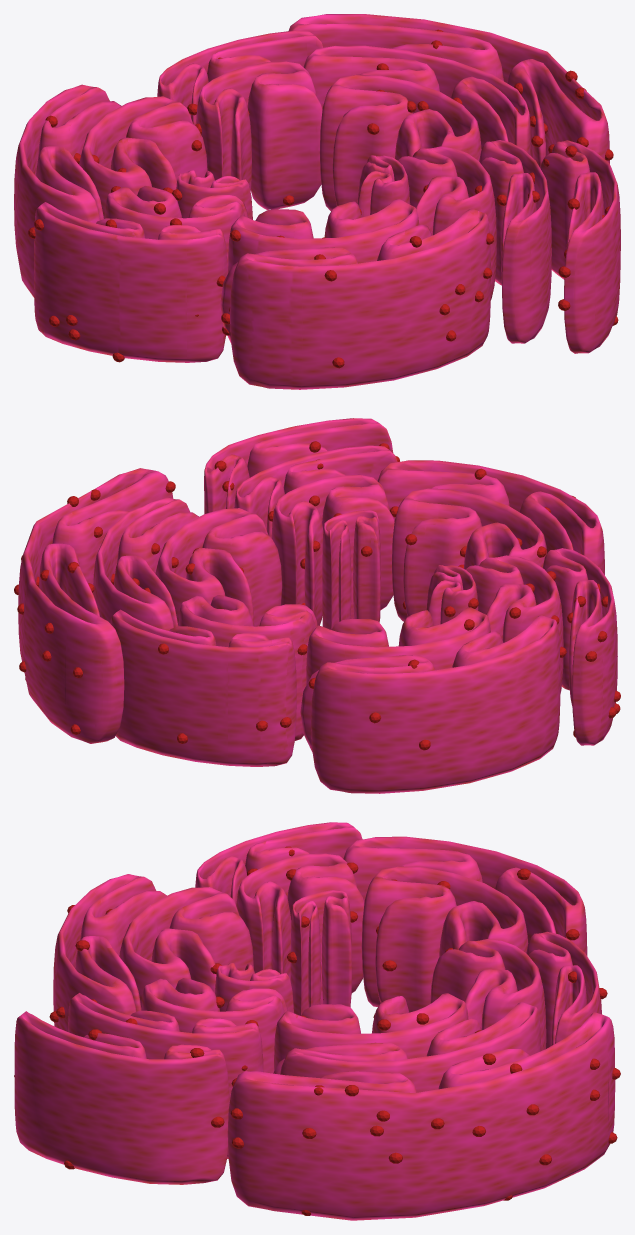
Rendered from endoplasmic_reticulum.glb.
The picture shows the model from 3 angles, top to bottom: view 1: azimuth 30°, elevation 25°; view 2: azimuth 150°, elevation 25°; view 3: azimuth 270°, elevation 25°; orthographic projection. The views are drawn at different scales.
Parts seen in each view (by area): view 1: ER-material, ribosomes-material; view 2: ER-material, ribosomes-material; view 3: ER-material, ribosomes-material (×2).
Part boxes in pixels (x1=…): ER-material: x1=14, y1=14, x2=620, y2=389; ribosomes-material: x1=28, y1=30, x2=618, y2=368; ER-material: x1=18, y1=418, x2=617, y2=793; ribosomes-material: x1=36, y1=441, x2=620, y2=783; ER-material: x1=14, y1=822, x2=615, y2=1220; ribosomes-material (×2): x1=14, y1=846, x2=620, y2=1215.
Size of the model in its own units: 8.9 by 2.03 by 8.17.
Materials: 2 (1 with a texture image).
